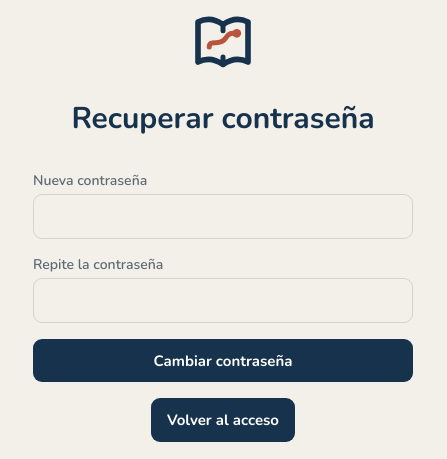
it: offers a new link when the token is expired
This screenshot has width=447, height=459.
Type "Password-123" into the password field labelled "Nueva contraseña" at {"x": 223, "y": 217}, box [33, 194, 413, 239]
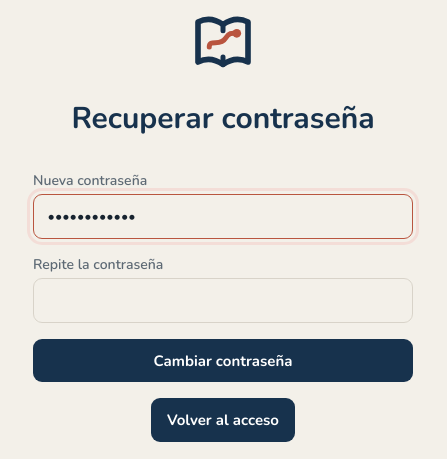
Type "Password-123" into the password field labelled "Repite la contraseña" at {"x": 223, "y": 301}, box [33, 278, 413, 323]
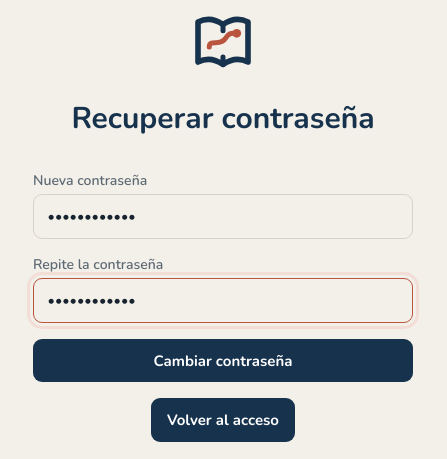
Click the button "Cambiar contraseña" at {"x": 223, "y": 360}, box [33, 339, 413, 382]
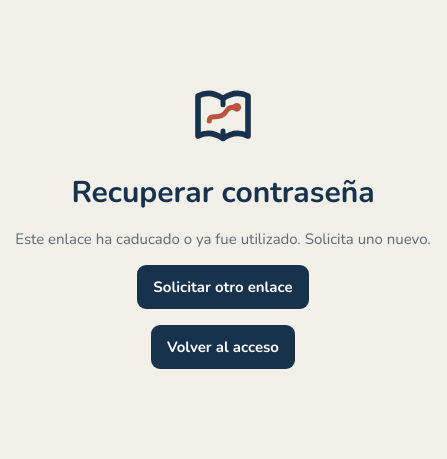
expect the link "Solicitar otro enlace" is shown: met, box [137, 264, 309, 308]
